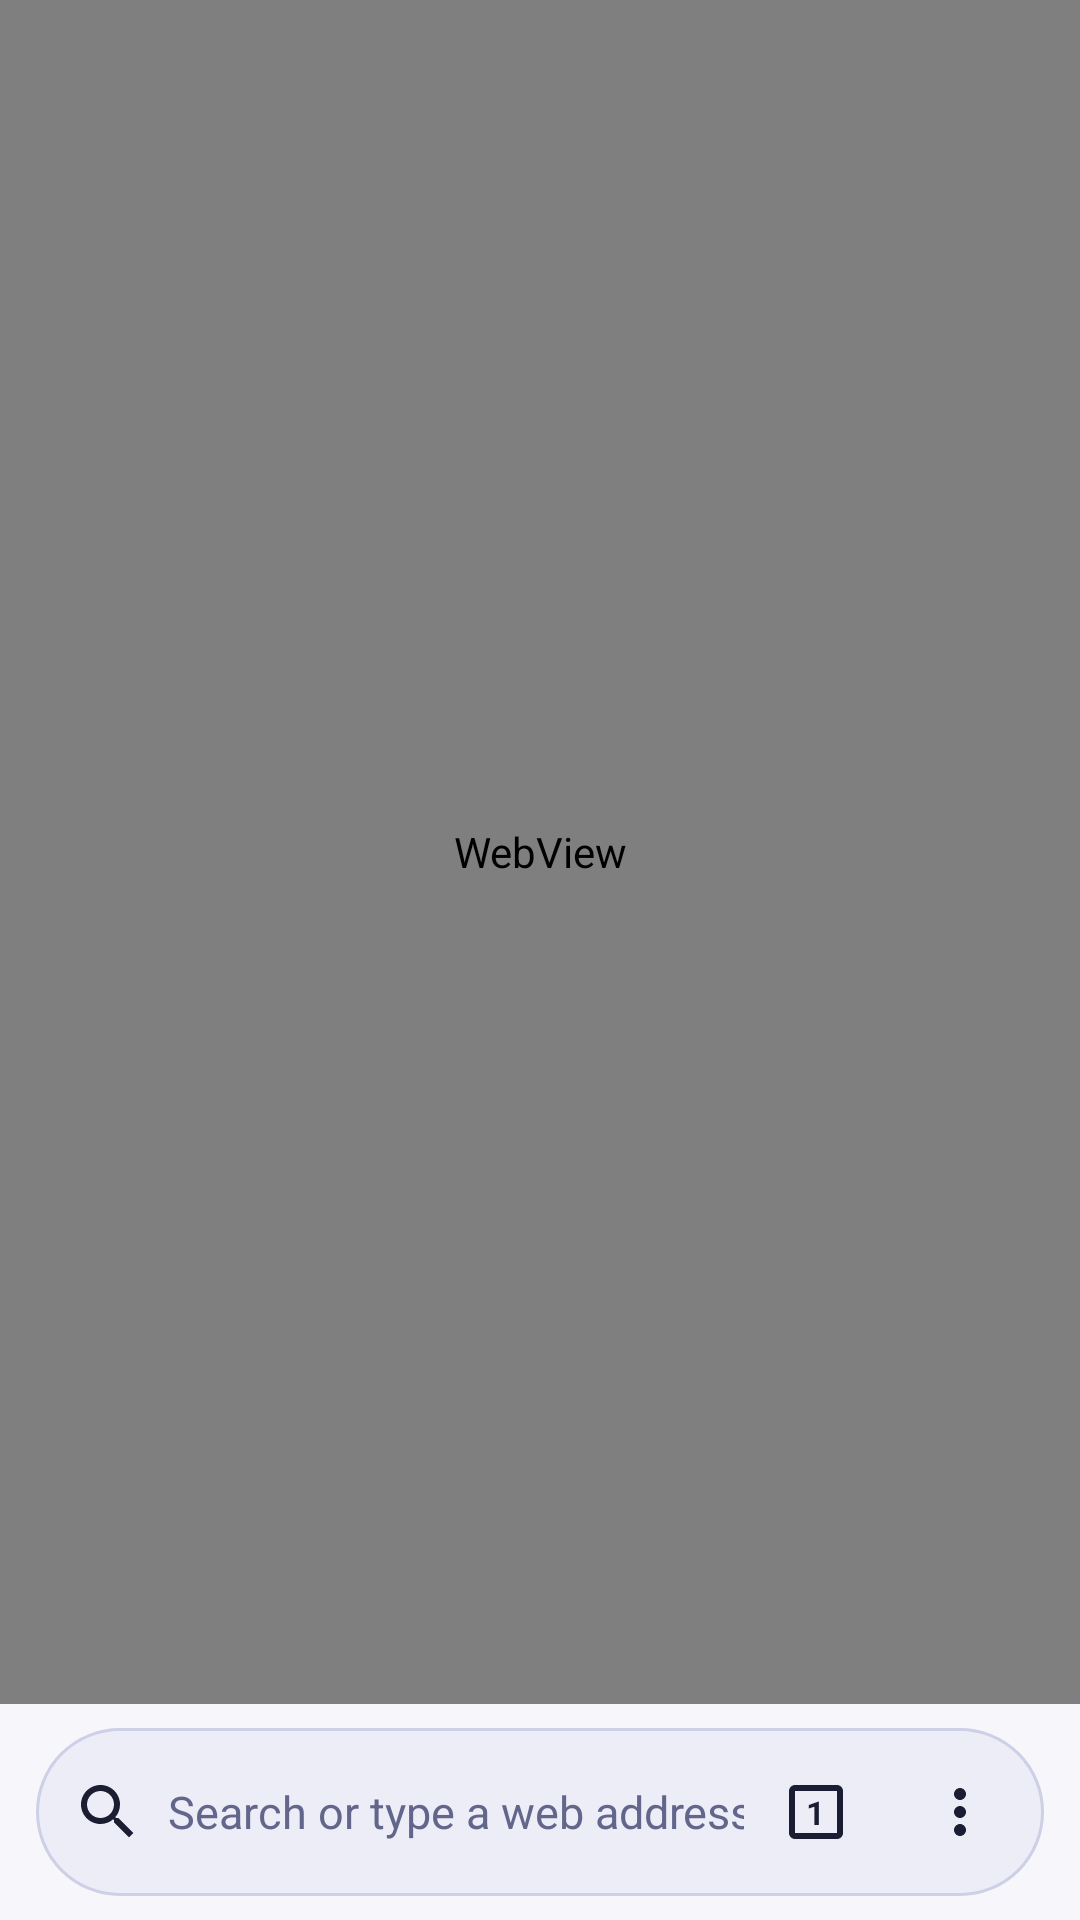

Icons on this 1080w x 1920h Android screen, each with its box as {"x1": x1, "y1": y1, "x2": x2, "y2": y2}:
More options: {"x1": 954, "y1": 1788, "x2": 966, "y2": 1836}
tabs: {"x1": 789, "y1": 1785, "x2": 843, "y2": 1839}
